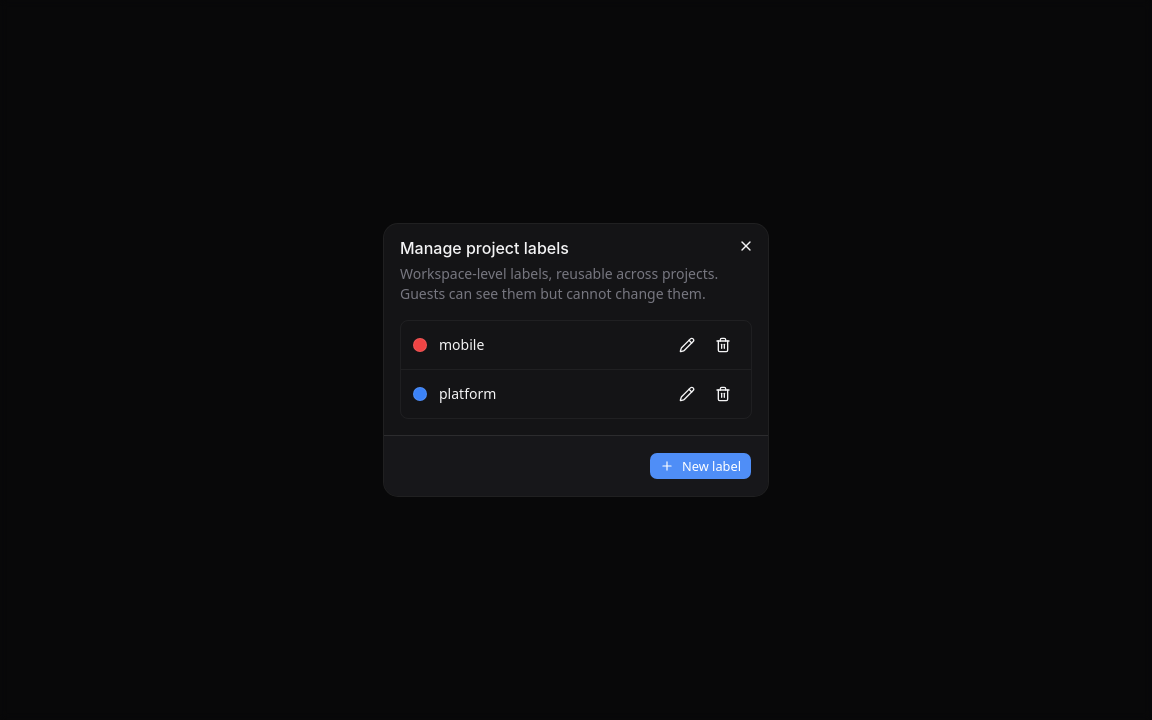
Test case: ManageProjectLabelsDialog › blocks creation with an invalid hex color
The image size is (1152, 720).
Expected: the list with test id "project-label-list" is shown, [400,320,752,419]
Click the button "New label".
click(700, 466)  # box [649,452,752,480]
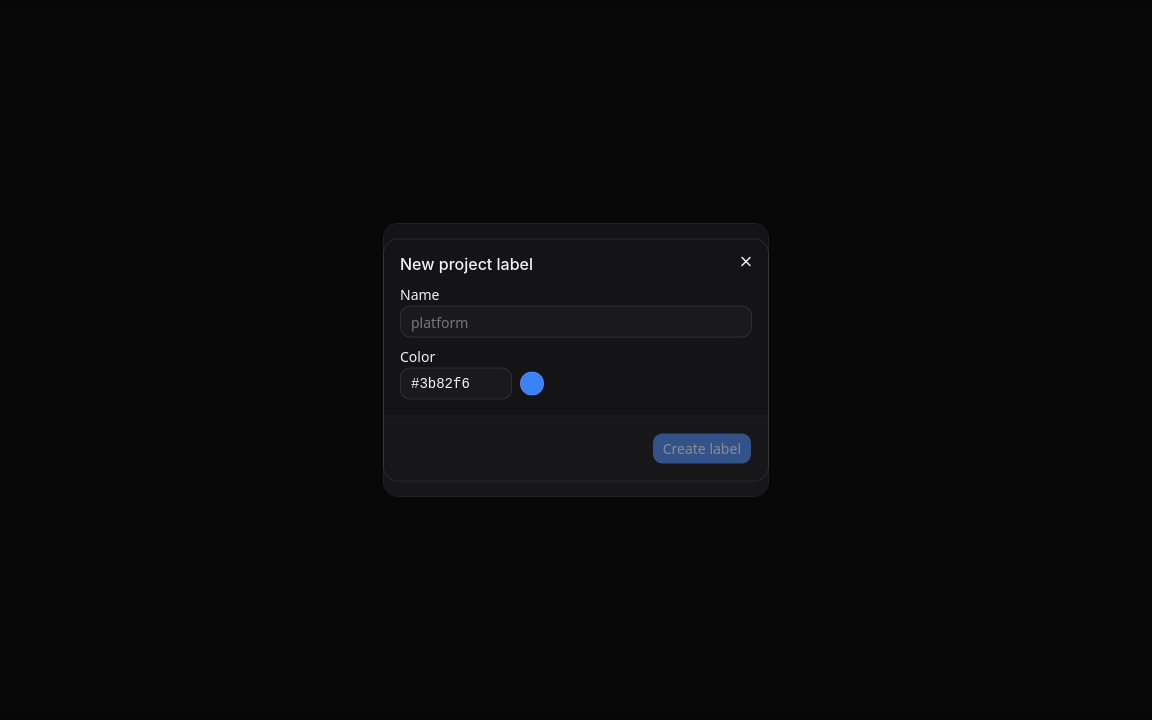
Type "infra" into the field labelled "Name".
click(576, 322); type("infra")  # box [400,306,752,338]
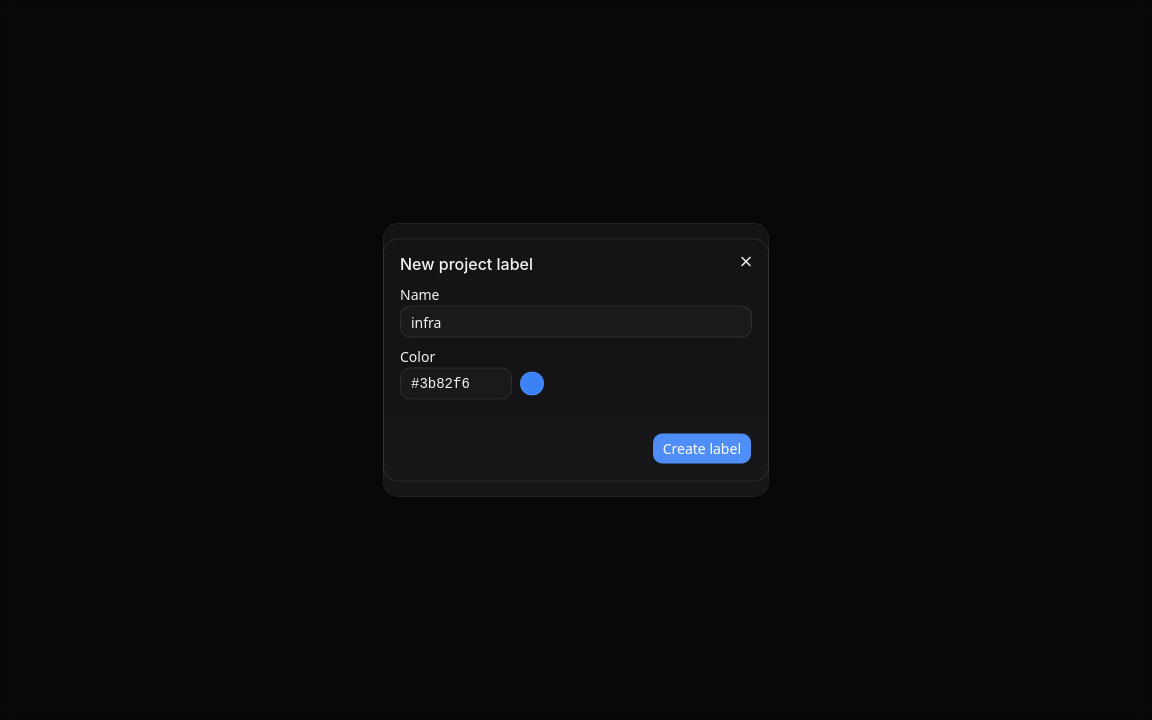
Replace the text in the field labelled "Color" with "not-a-color" at (456,384), box [400,368,512,400]
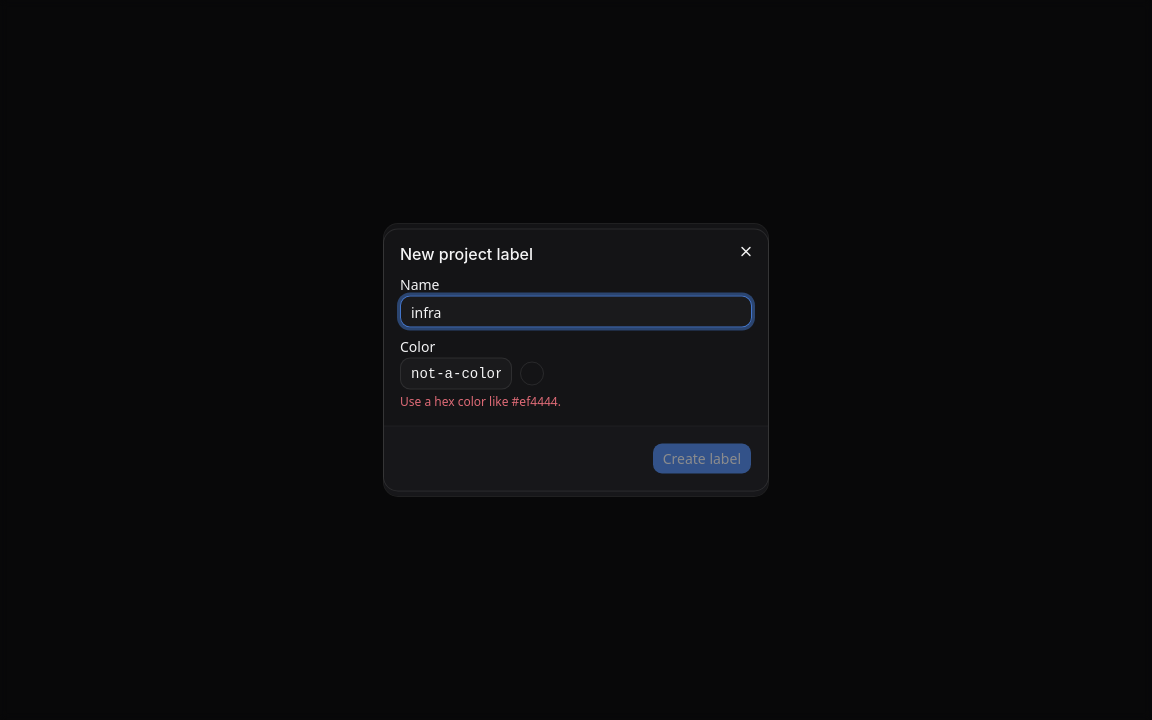
Result: the button "Create label" is disabled at [652,442,752,474]
